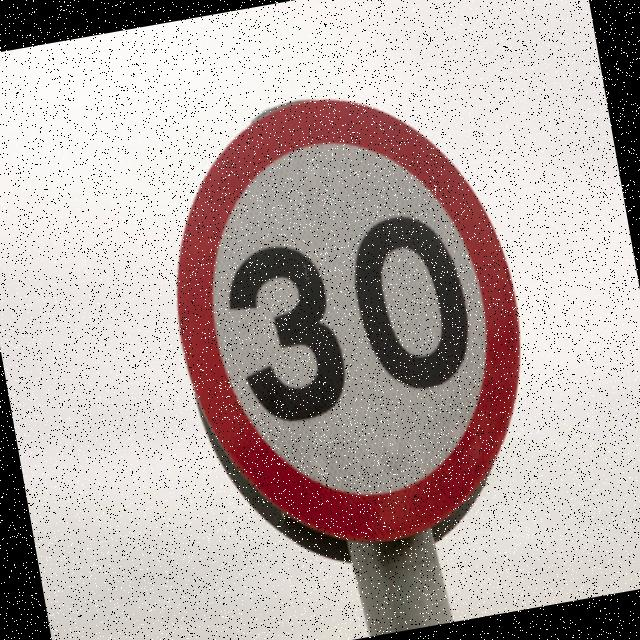speed_limit_30: (137, 56, 558, 578)
